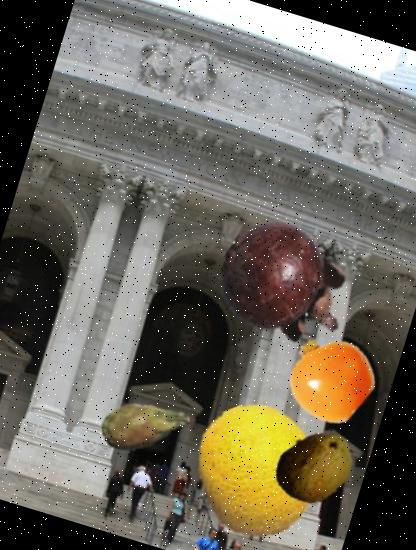Cactus: (90, 370, 201, 482)
Cantaloupe: (177, 385, 344, 550)
Mangostan: (202, 200, 372, 370)
Papaya: (263, 414, 368, 520)
Physalis: (276, 324, 384, 432)
